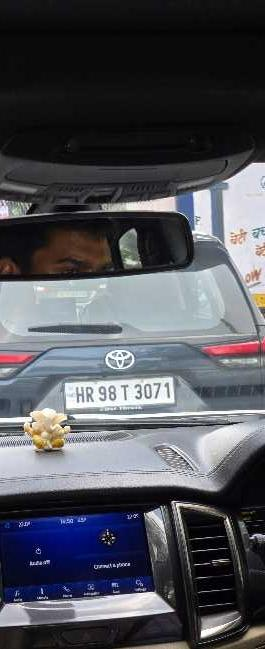License plate: (64, 377, 176, 409)
